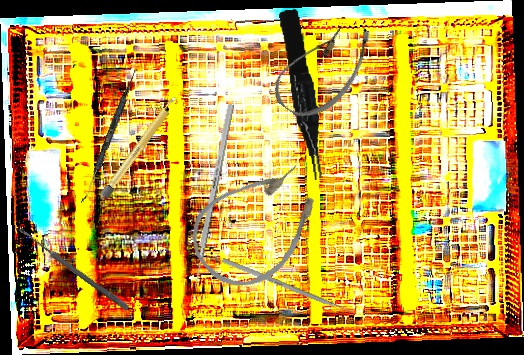Cannula: (176, 146, 340, 305), (265, 3, 383, 132)
Pusher: (221, 257, 365, 320), (189, 103, 235, 300)
Scalpel Handle: (100, 94, 180, 200)
Spatula Surgical: (80, 66, 139, 206)
Surgical Spoon: (16, 225, 131, 312)
Tissue Forceps: (278, 7, 327, 183)
